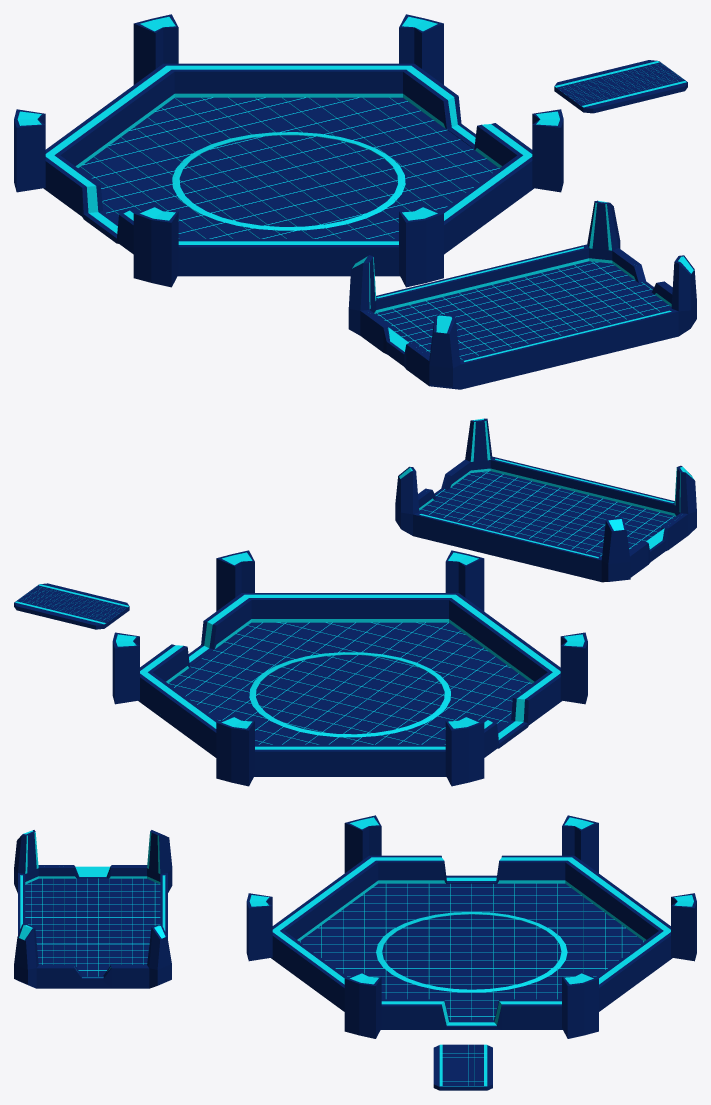
Rendered from ALL MAP HORDE.fbx.
3 views of the same model, one above another, from view 1: azimuth 30°, elevation 25°; view 2: azimuth 150°, elevation 25°; view 3: azimuth 270°, elevation 25° (orthographic). The views are drawn at different scales.
Visible parts, largest first — view 1: Cylinder.001, Plane, Cube, Plane.001, Plane.002, Cylinder, Cube.001; view 2: Cylinder.001, Plane, Cube, Plane.001, Plane.002, Cylinder, Cube.001; view 3: Cylinder.001, Plane, Plane.001, Cube, Plane.002, Cylinder, Cube.001.
Boxes of the visible parts, box(x1,y1,x2,y2) form: Cylinder.001: box(14, 14, 563, 287); Plane: box(78, 97, 499, 238); Cube: box(348, 200, 696, 389); Plane.001: box(375, 261, 671, 359); Plane.002: box(554, 61, 686, 107); Cylinder: box(172, 132, 405, 230); Cube.001: box(554, 60, 687, 113); Cylinder.001: box(112, 550, 587, 786); Plane: box(168, 622, 531, 744); Cube: box(395, 418, 696, 582); Plane.001: box(419, 471, 674, 556); Plane.002: box(15, 584, 128, 624); Cylinder: box(249, 652, 450, 737); Cube.001: box(14, 583, 129, 629); Cylinder.001: box(246, 815, 696, 1038); Plane: box(299, 883, 643, 1020); Plane.001: box(25, 878, 160, 977); Cube: box(14, 830, 172, 988); Plane.002: box(439, 1044, 487, 1086); Cylinder: box(376, 912, 567, 992); Cube.001: box(433, 1045, 492, 1090).
Size of the model in its own units: 2132 by 331 by 2595.
